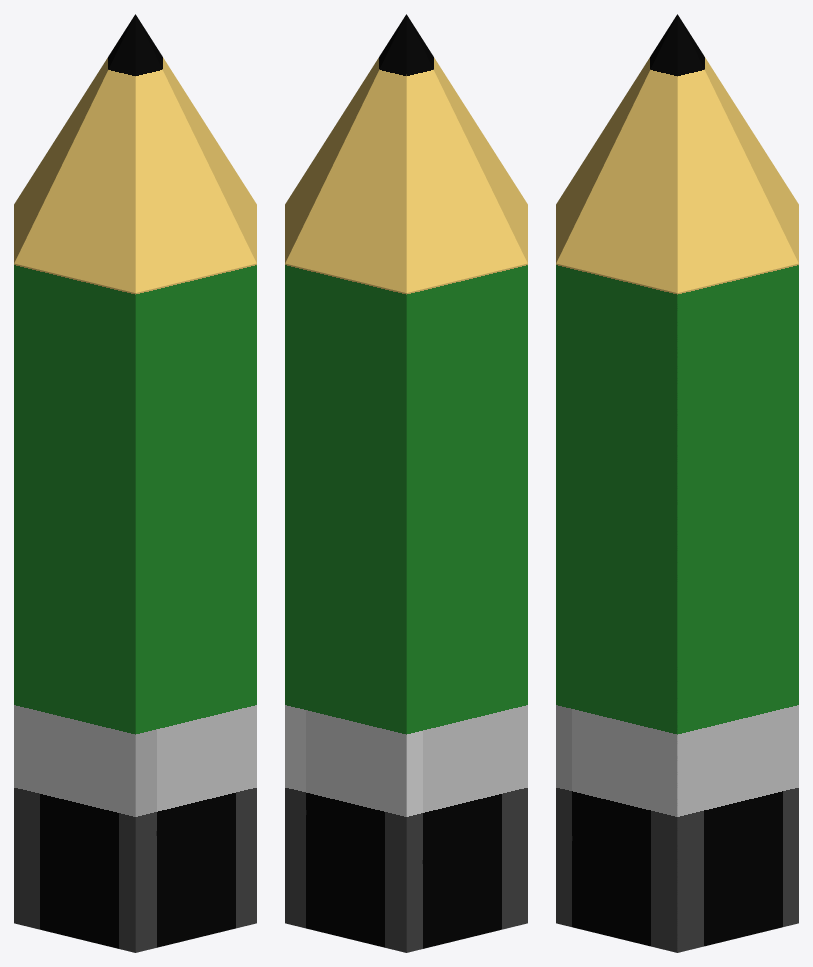
The model's file is GreenPencil.fbx.
3 renders of one model, left to right at view 1: azimuth 30°, elevation 25°; view 2: azimuth 150°, elevation 25°; view 3: azimuth 270°, elevation 25°, orthographic.
Visible parts, largest first — view 1: cylinder; view 2: cylinder; view 3: cylinder.
Part boxes in pixels (<box>): cylinder: <box>14,14,256,952</box>; cylinder: <box>285,14,527,952</box>; cylinder: <box>556,14,798,952</box>.
Bounding box in the file's own units: 57.74 × 200 × 50.
1 material, 1 textured.
